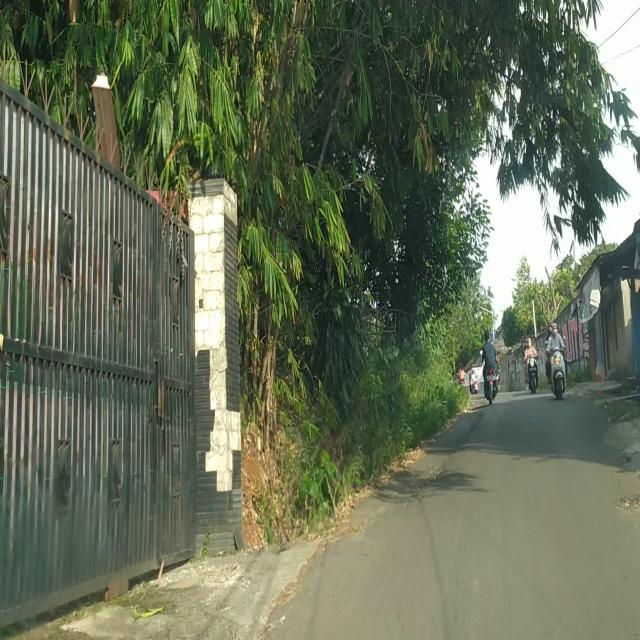Drain Hole: (404, 460, 445, 506)
